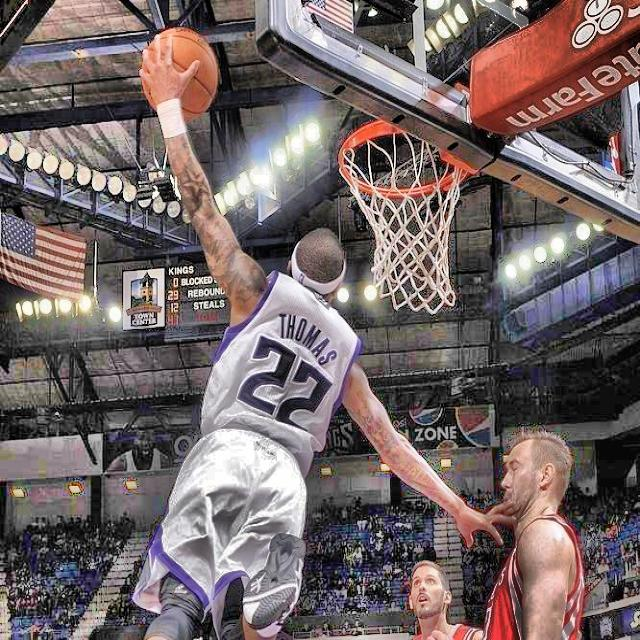rim: (339, 117, 472, 312)
